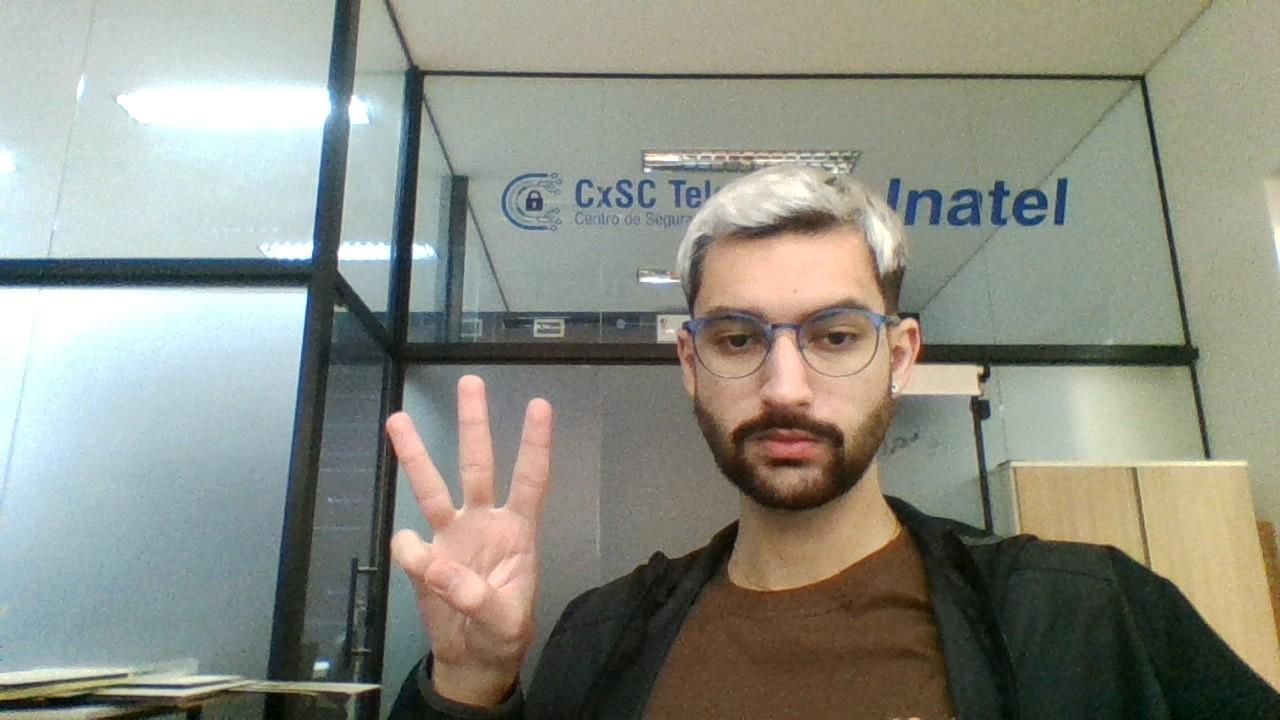W: (370, 364, 560, 672)
